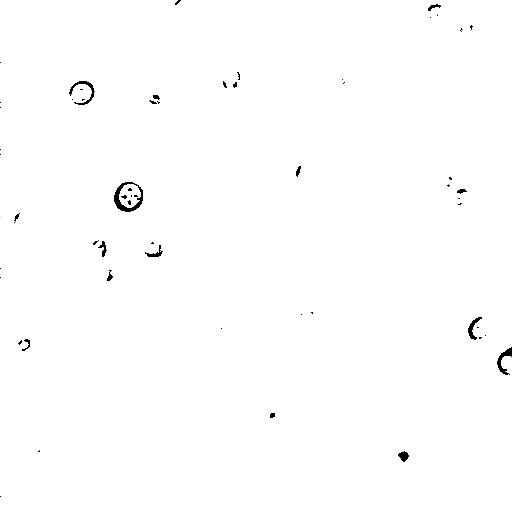micro-algae: (384, 439, 421, 473), (113, 181, 145, 213), (431, 167, 461, 196), (335, 74, 362, 106), (67, 79, 96, 106), (6, 209, 36, 235), (465, 315, 495, 341), (107, 387, 130, 419), (423, 3, 452, 27), (261, 405, 288, 430), (293, 161, 315, 189), (293, 307, 322, 328), (220, 65, 242, 92), (27, 445, 54, 467), (141, 1, 165, 25), (140, 239, 166, 259), (447, 186, 471, 207), (88, 239, 108, 262), (173, 0, 197, 19), (497, 343, 511, 375), (91, 265, 115, 283), (459, 19, 475, 43), (17, 337, 33, 353)
